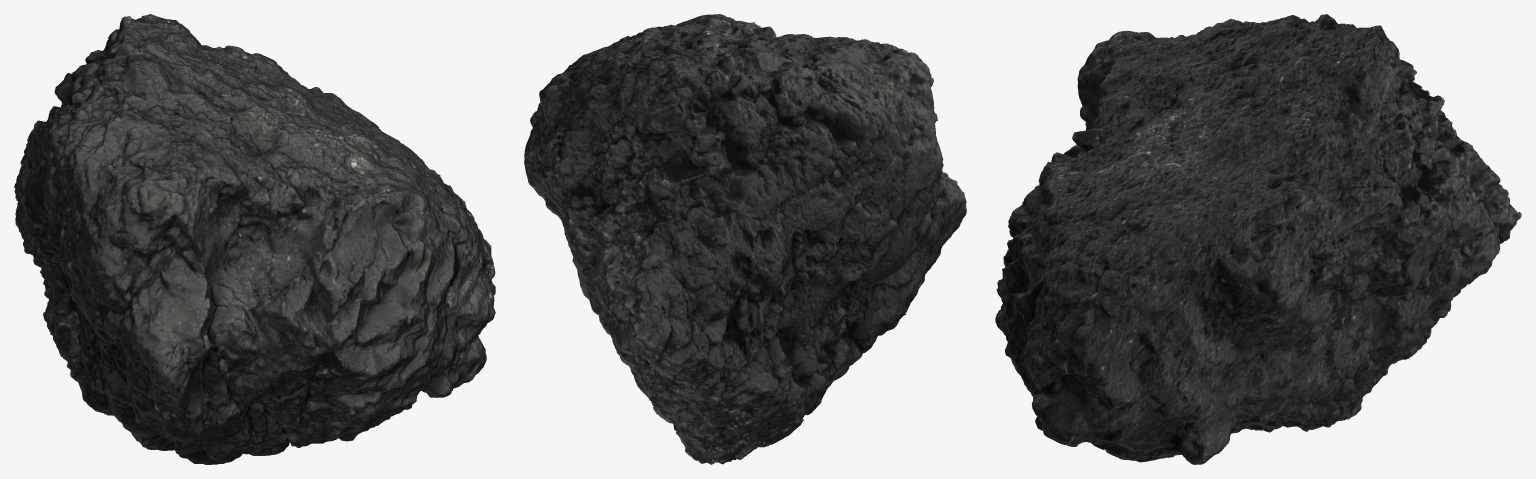
The model's file is rock-70175.glb.
3 renders of one model, left to right at view 1: azimuth 30°, elevation 25°; view 2: azimuth 150°, elevation 25°; view 3: azimuth 270°, elevation 25°, orthographic. The views are drawn at different scales.
Size of the model in its own units: 0.0636 by 0.0644 by 0.0744.
Materials: 1 (1 with a texture image).
